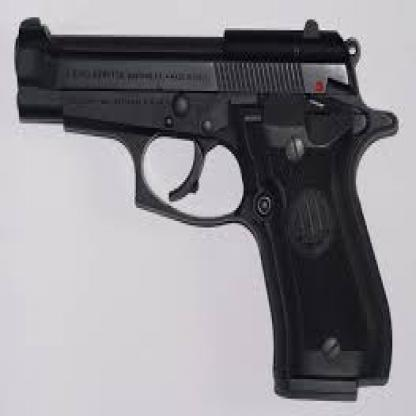Pistol: (11, 11, 398, 403)
